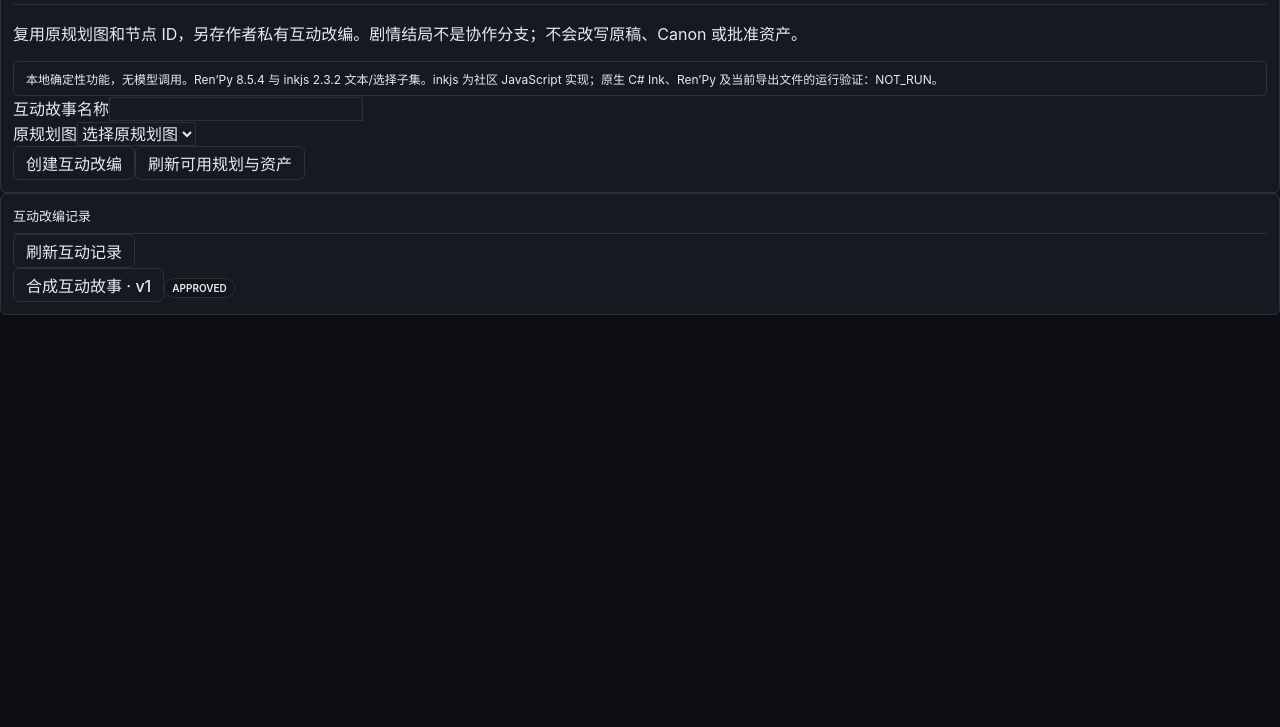
Test: hides read target data and blocks export when unsaved input appears
Click the button "合成互动故事 · v1". click: click(89, 285)
box: [13, 268, 164, 302]
(page scrolled)
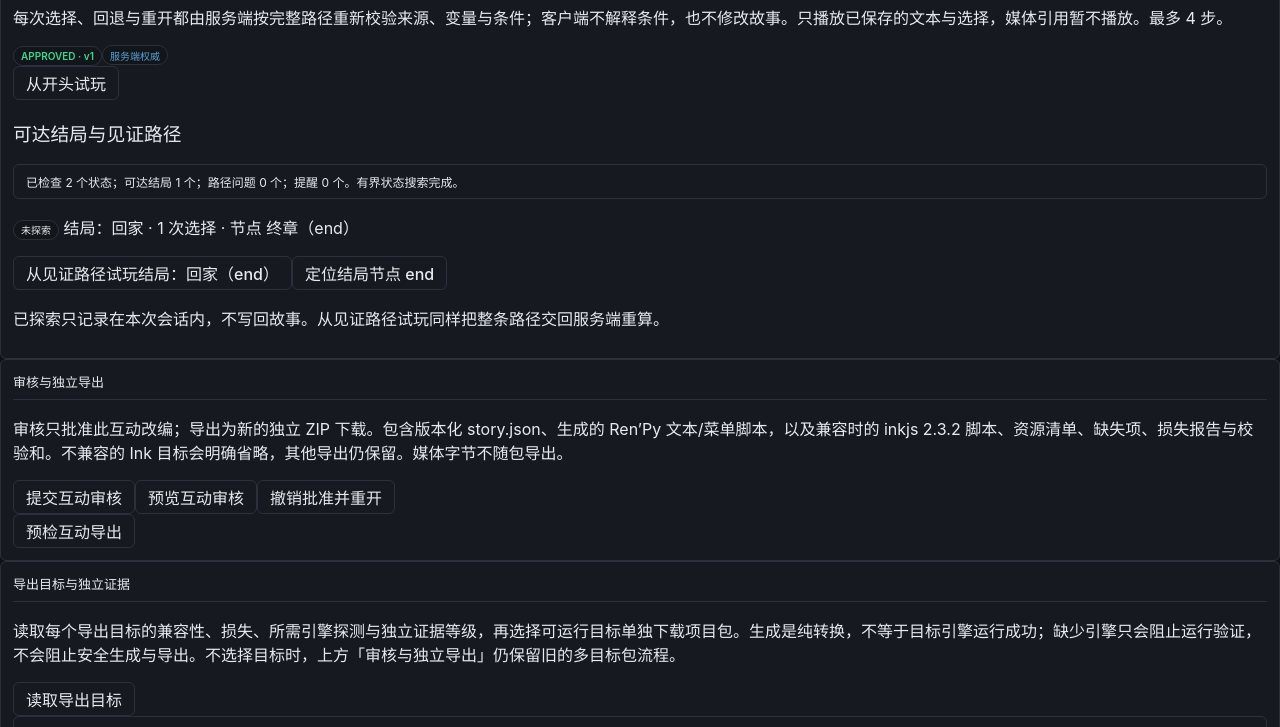
Click the button "读取导出目标". click: click(74, 699)
box: [13, 682, 135, 716]
(page scrolled)
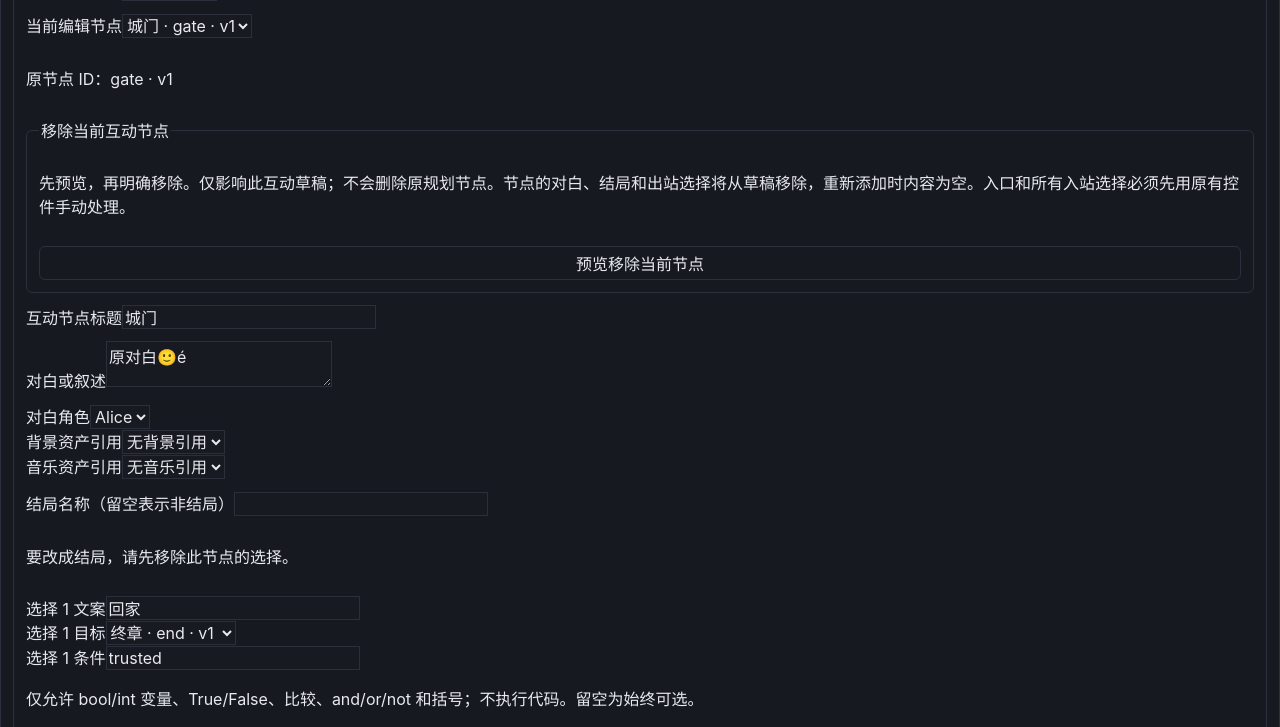
Replace the text in the text box labelled "对白或叙述" with "未保存的新对白". click: (219, 364)
box: [106, 341, 332, 387]
(page scrolled)
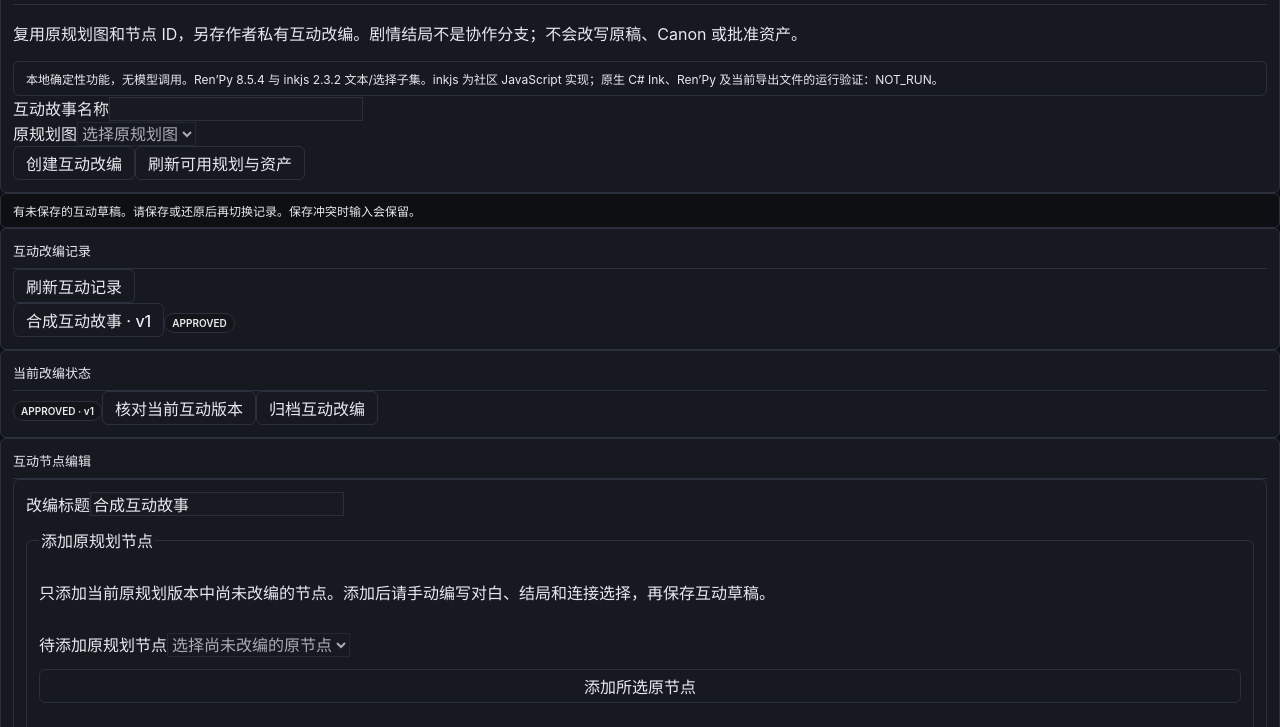
Check: the text "有未保存的互动草稿。请保存或还原后再切换记录。保存冲突时输入会保留。" is shown, box [0, 193, 1279, 228]
